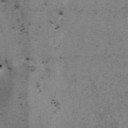oxide scale of temperature system: (0, 58, 24, 116), (50, 10, 64, 30), (12, 18, 26, 32), (25, 57, 35, 72), (2, 0, 19, 8), (50, 98, 61, 108), (35, 82, 41, 89), (21, 118, 26, 123), (44, 2, 48, 6)
